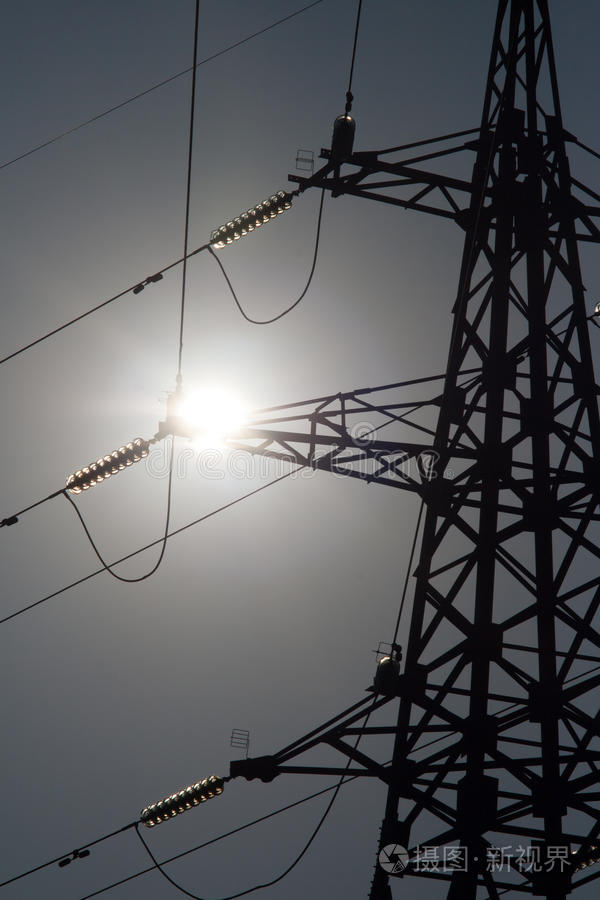insulator: (64, 434, 149, 493), (210, 190, 291, 251), (142, 776, 221, 827)
